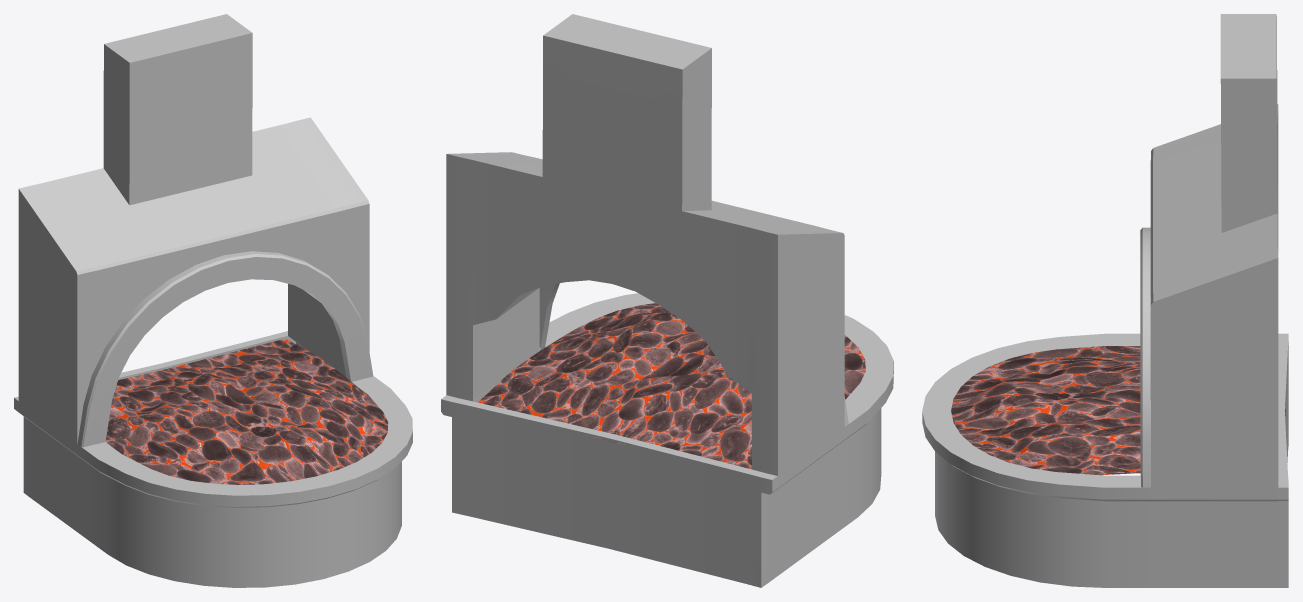
The model's file is forja.fbx.
3 views of the same model, side by side, from view 1: azimuth 30°, elevation 25°; view 2: azimuth 150°, elevation 25°; view 3: azimuth 270°, elevation 25° (orthographic). The views are drawn at different scales.
Parts seen in each view (by area): view 1: Circle, Plane; view 2: Circle, Plane; view 3: Circle, Plane.
Boxes of the visible parts, x1,y1,x2,y2 form: Circle: (14, 14, 412, 587); Plane: (105, 339, 388, 484); Circle: (441, 14, 893, 587); Plane: (478, 303, 865, 469); Circle: (922, 14, 1288, 587); Plane: (951, 346, 1285, 475).
Bounding box in the file's own units: 214 × 304 × 215.
